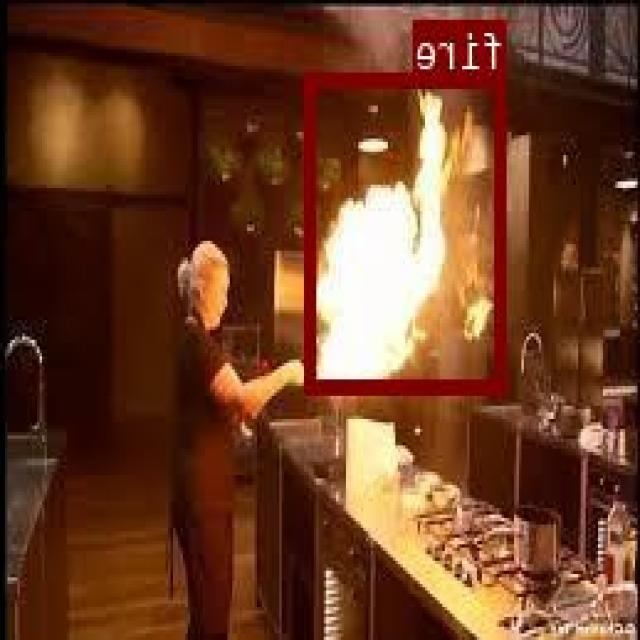fire: (306, 71, 508, 390)
